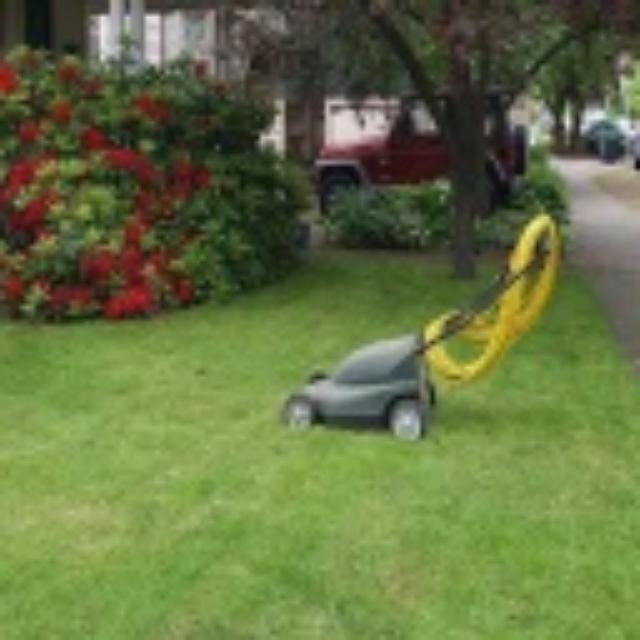Rotary-Mower: (276, 205, 560, 440)
